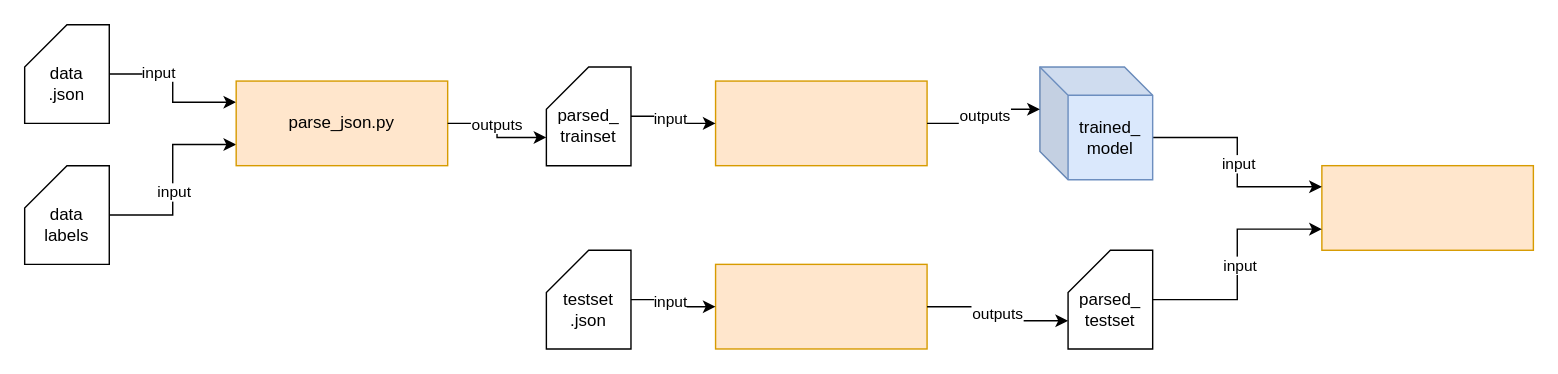
The diagram is 1558 pixels wide and 374 high, and some of its shapes have lost their labels. Here are the shapes that lost their labels. From the top down, the box of each, then its label:
(714, 80, 927, 166): catboost_training.py
(1320, 164, 1533, 250): catboost_predictions.py
(714, 263, 927, 349): parse_testset.py
